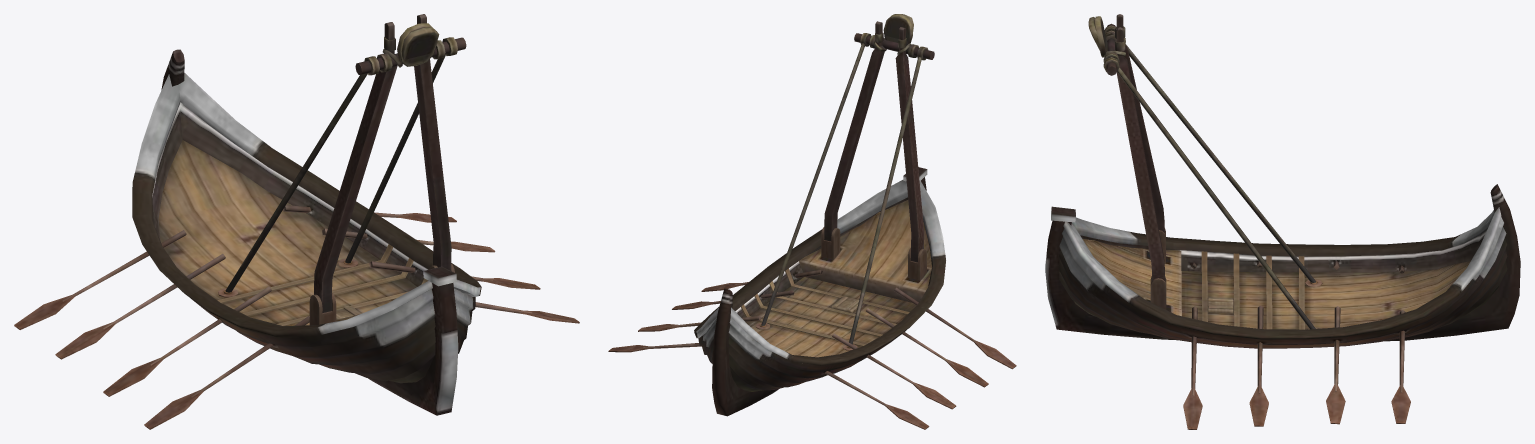
The model's file is body-base.glb.
The picture shows the model from 3 angles, left to right: view 1: azimuth 30°, elevation 25°; view 2: azimuth 150°, elevation 25°; view 3: azimuth 270°, elevation 25°; orthographic projection. The views are drawn at different scales.
Bounding box in the file's own units: 3.81 × 3.27 × 4.32.
1 material, 1 textured.
